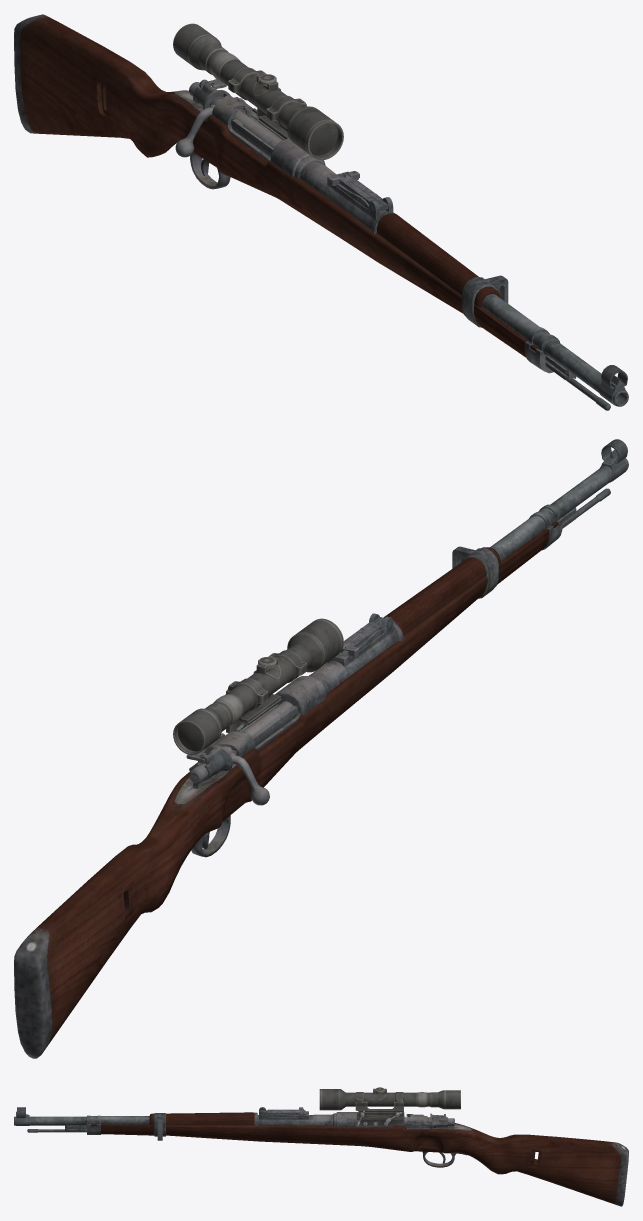
Rendered from sniper.glb.
3 views of the same model, one above another, from view 1: azimuth 30°, elevation 25°; view 2: azimuth 150°, elevation 25°; view 3: azimuth 270°, elevation 25° (orthographic). The views are drawn at different scales.
Parts seen in each view (by area): view 1: body, scope, bolt, boltend; view 2: body, scope, bolt, boltend; view 3: body, scope, boltend.
Part boxes in pixels (x1,y1,x2,y2): body: (14,14,628,410); scope: (173,23,343,160); bolt: (175,98,281,157); boltend: (189,79,230,109); body: (14,439,628,1058); scope: (173,618,343,755); bolt: (222,701,292,805); boltend: (186,745,232,788); body: (14,1107,628,1206); scope: (319,1087,460,1126); boltend: (429,1113,454,1128).
Bounding box in the file's own units: 0.3973 × 1.17 × 5.59.
Materials: 3 (3 with a texture image).
